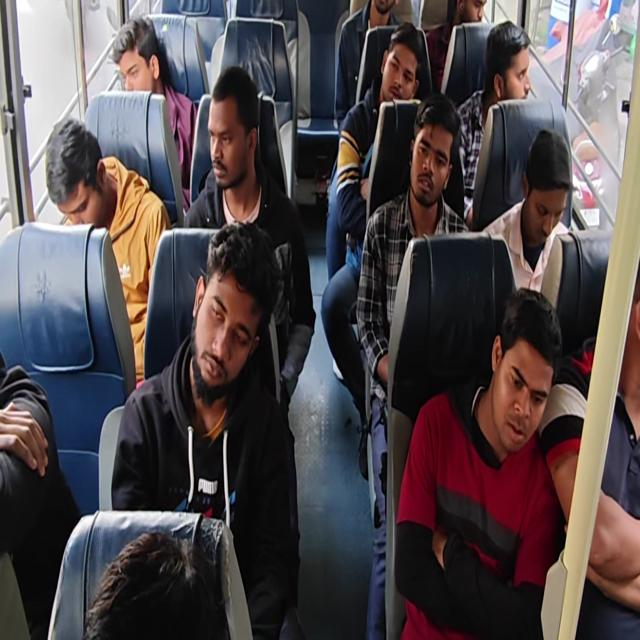person: (2, 1, 638, 638), (110, 220, 295, 638), (356, 92, 470, 638), (394, 286, 566, 639), (182, 65, 316, 425), (321, 22, 422, 478), (538, 259, 639, 638), (45, 117, 172, 386), (0, 348, 80, 638), (335, 22, 421, 256), (110, 16, 198, 209), (82, 530, 229, 639), (453, 20, 531, 225), (480, 127, 573, 295), (334, 0, 402, 129), (425, 0, 487, 94)
